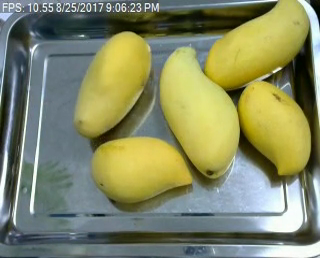Mango: (158, 44, 240, 178), (199, 0, 309, 87), (72, 30, 153, 138), (91, 135, 195, 205), (239, 79, 314, 176)
